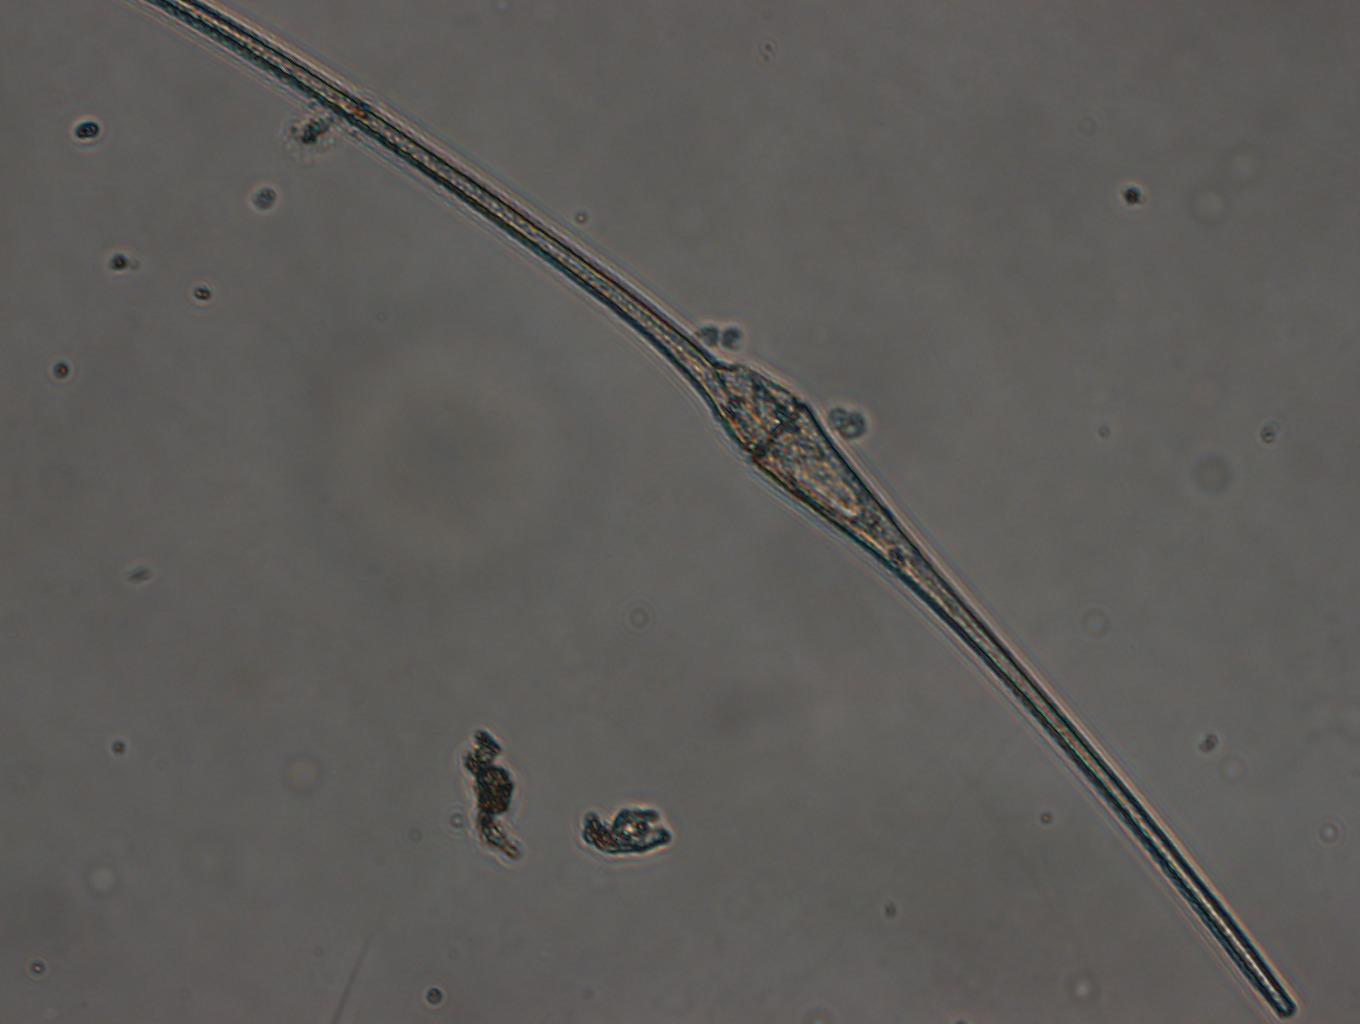ceratium fusus: (139, 3, 1306, 1023)
